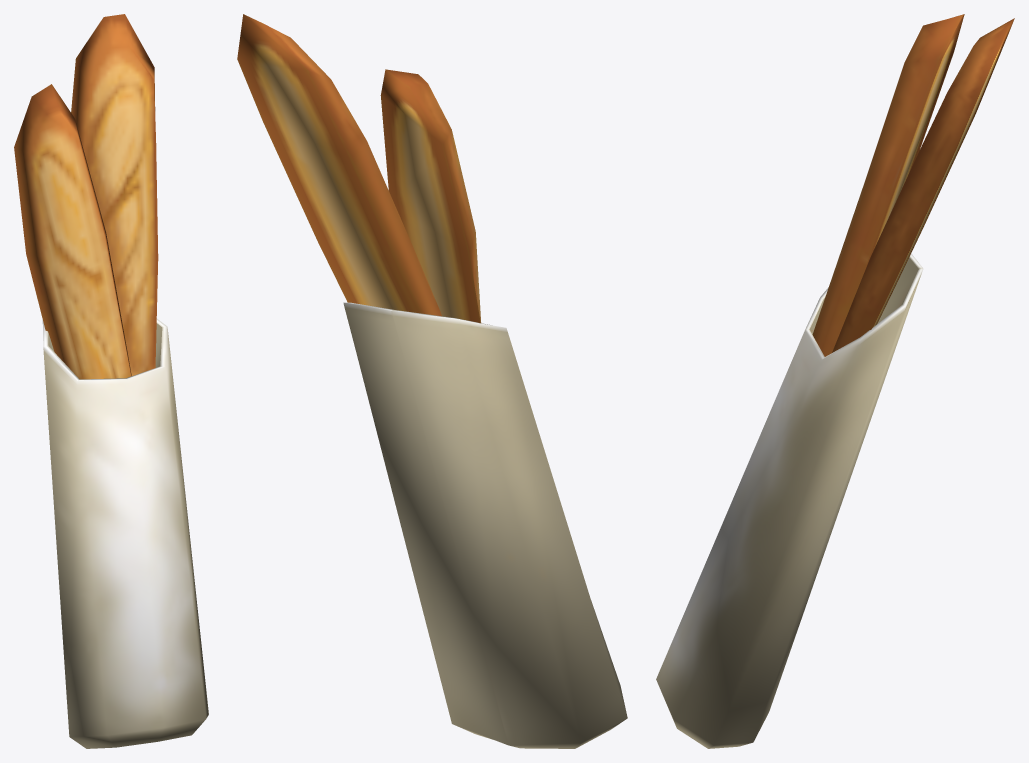
Rendered from TianZhuJiaoTang_01_fagunmianbao_01.FBX.
3 renders of one model, left to right at view 1: azimuth 30°, elevation 25°; view 2: azimuth 150°, elevation 25°; view 3: azimuth 270°, elevation 25°, orthographic. The views are drawn at different scales.
Parts seen in each view (by area): view 1: TianZhuJiaoTang_01_fagunmianbao_01; view 2: TianZhuJiaoTang_01_fagunmianbao_01; view 3: TianZhuJiaoTang_01_fagunmianbao_01.
Part boxes in pixels (bbox=[...]): TianZhuJiaoTang_01_fagunmianbao_01: bbox=[14, 14, 208, 748]; TianZhuJiaoTang_01_fagunmianbao_01: bbox=[237, 14, 627, 748]; TianZhuJiaoTang_01_fagunmianbao_01: bbox=[656, 14, 1014, 748].
Size of the model in its own units: 168 by 516 by 221.
